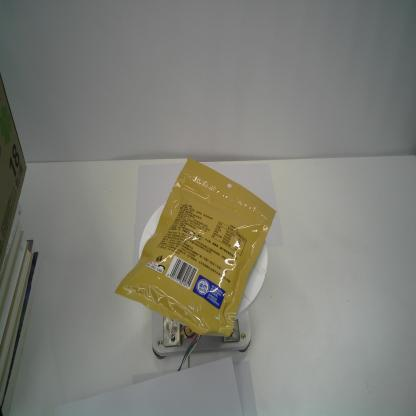Dried Fruit: (114, 156, 277, 338)
